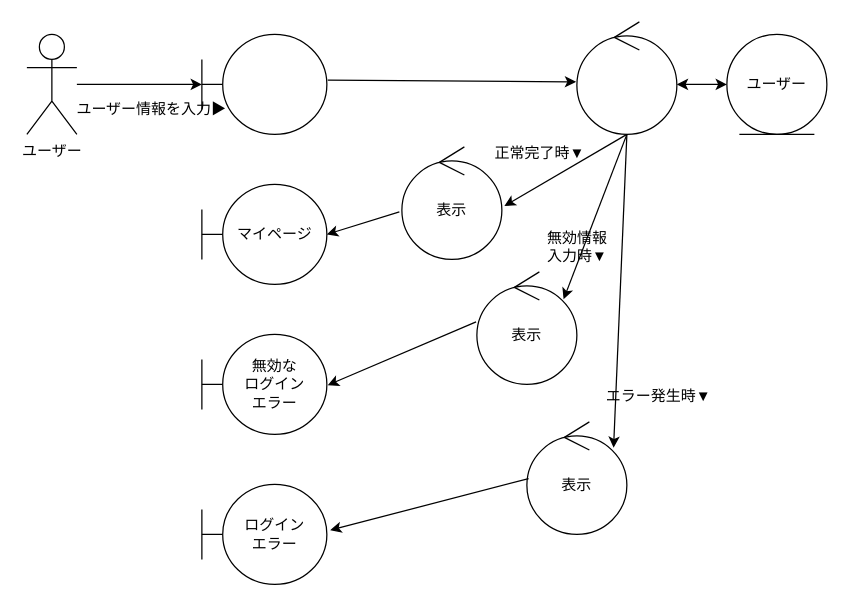
Image size: 849x606. Some labels were removed from this diagram. The centre of each missing label's shape, as x and y in pixels:
"ユーザー認証" belongs at (626,77).
"ログイン画面" belongs at (264,83).
